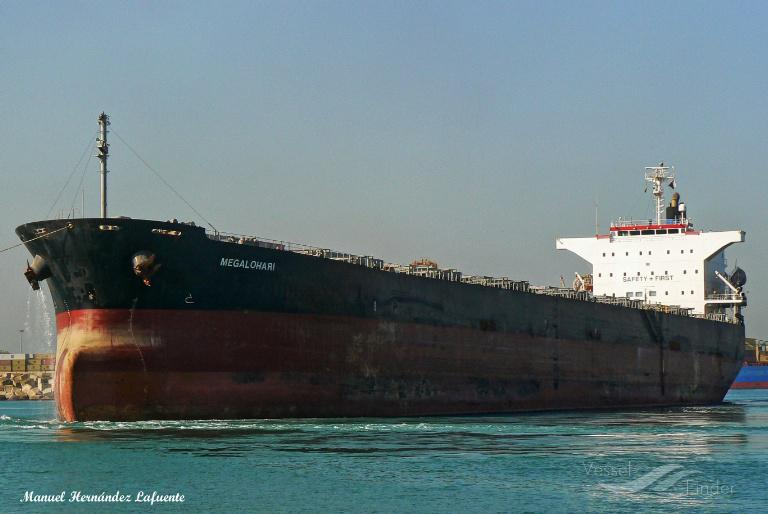OCR: (214, 251, 278, 286)
